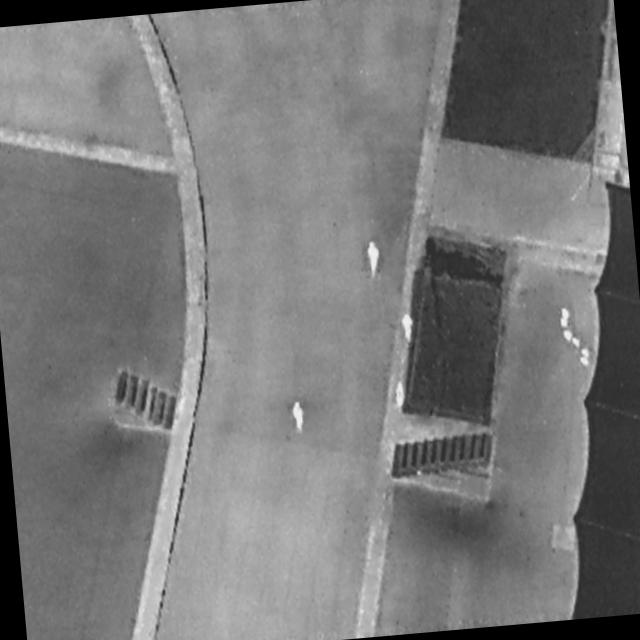person: (365, 239, 383, 278), (400, 312, 417, 348), (291, 398, 307, 434), (394, 379, 408, 414)
